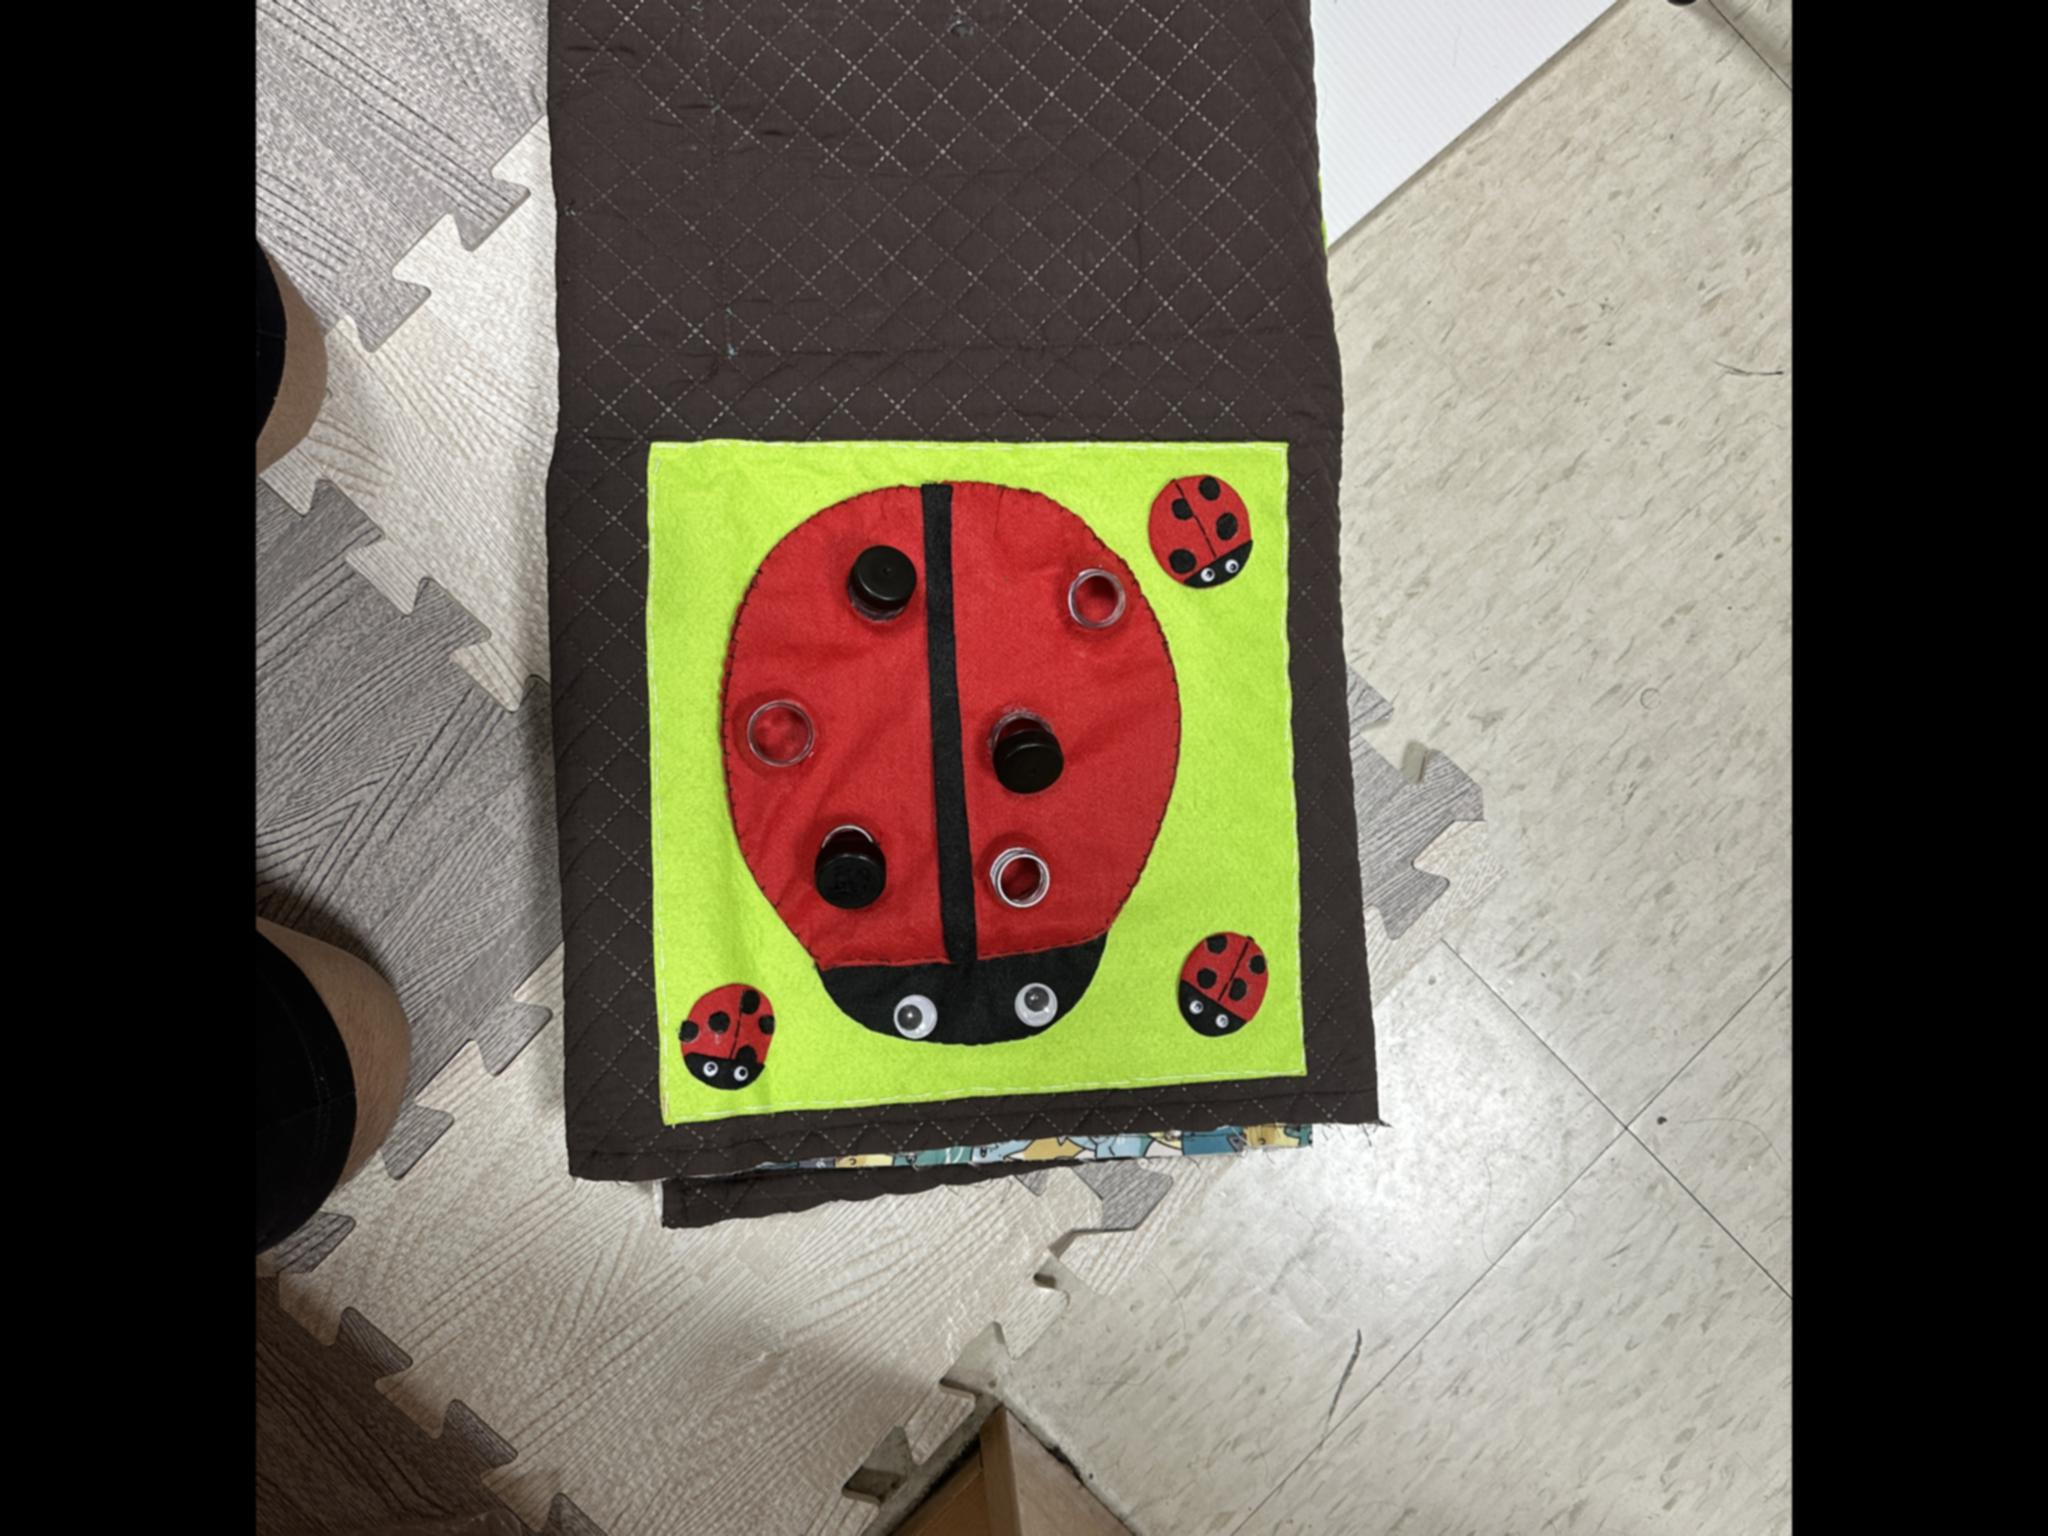cap_ng: (800, 792, 898, 916), (974, 689, 1074, 795), (832, 534, 921, 629)
